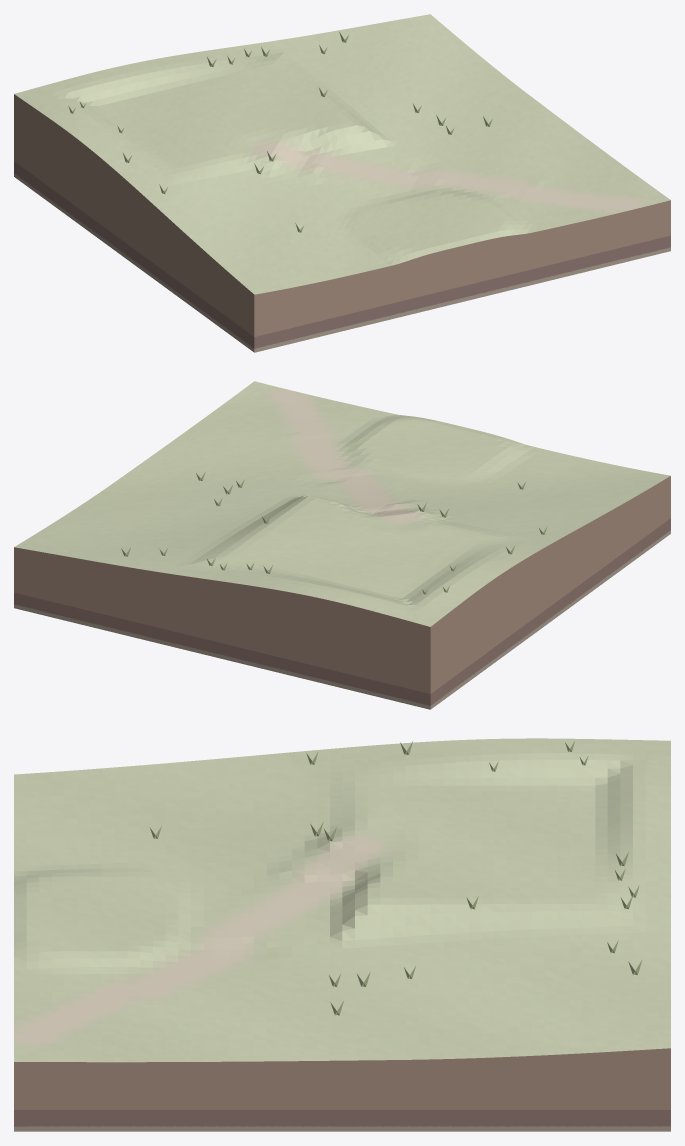
The picture shows the model from 3 angles, top to bottom: view 1: azimuth 30°, elevation 25°; view 2: azimuth 150°, elevation 25°; view 3: azimuth 270°, elevation 25°; orthographic projection. The views are drawn at different scales.
Visible parts, largest first — view 1: proc_ground, proc_skirt, proc_grass; view 2: proc_ground, proc_skirt, proc_grass; view 3: proc_ground, proc_skirt, proc_grass.
Part boxes in pixels (x1=…): proc_ground: x1=14, y1=14, x2=670, y2=294; proc_skirt: x1=14, y1=94, x2=670, y2=352; proc_grass: x1=68, y1=32, x2=492, y2=232; proc_ground: x1=14, y1=381, x2=670, y2=626; proc_skirt: x1=14, y1=476, x2=670, y2=709; proc_grass: x1=121, y1=472, x2=547, y2=594; proc_ground: x1=14, y1=738, x2=670, y2=1062; proc_skirt: x1=14, y1=1048, x2=670, y2=1131; proc_grass: x1=150, y1=741, x2=642, y2=1015.
Size of the model in its own units: 8 by 1.7 by 8.
